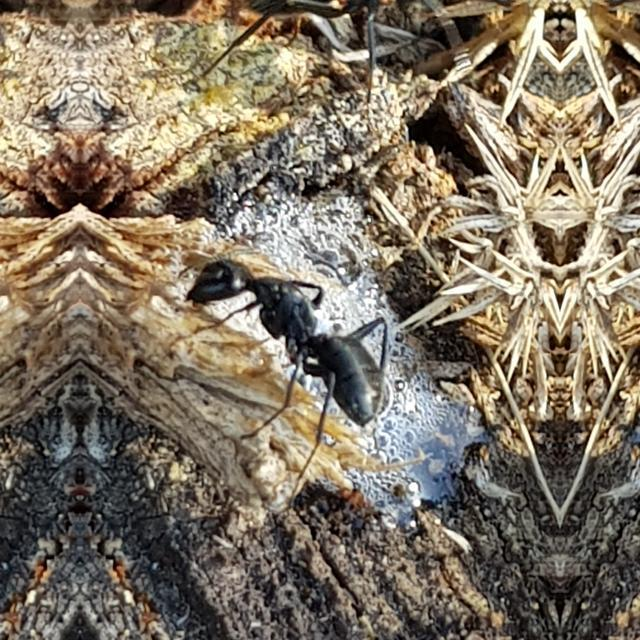Camponotus: (184, 232, 406, 436)
